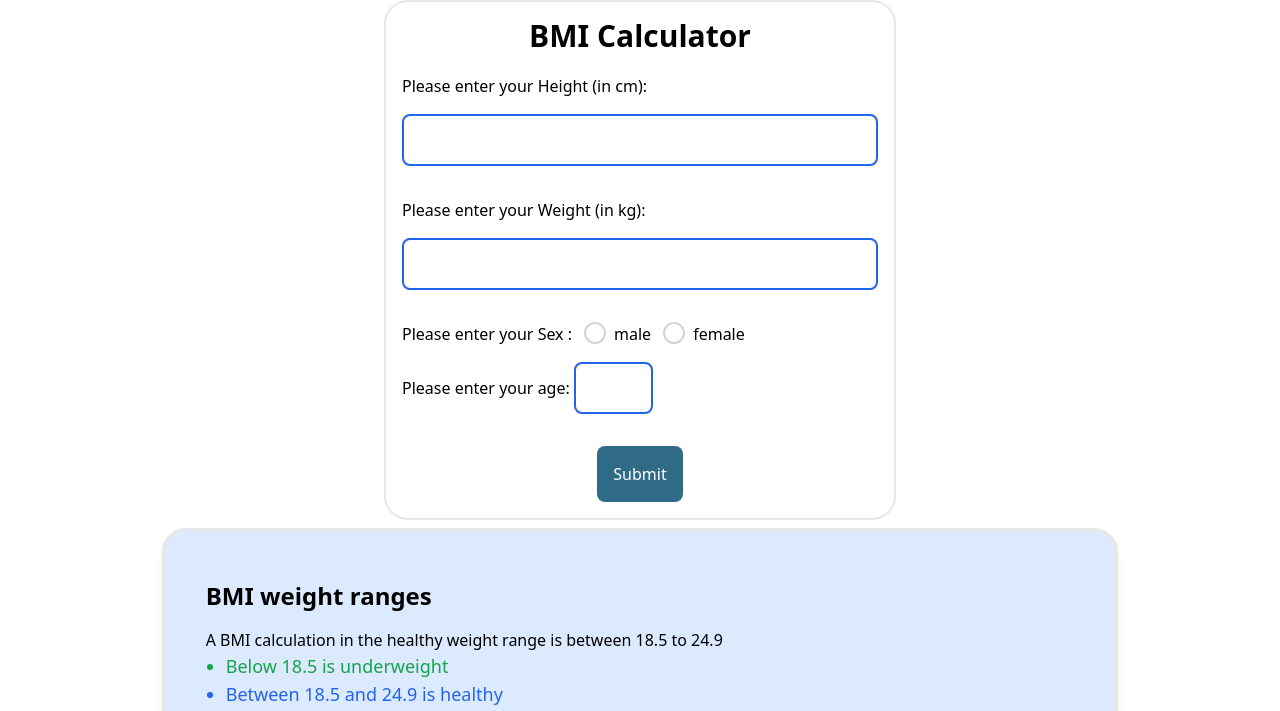
it: BMI Calculator Component › should show an error message when submitting without filling the form
Note: Submit the form without filling the details
Step 1. Click the button "Submit" → click(640, 474), box [597,446,682,502]
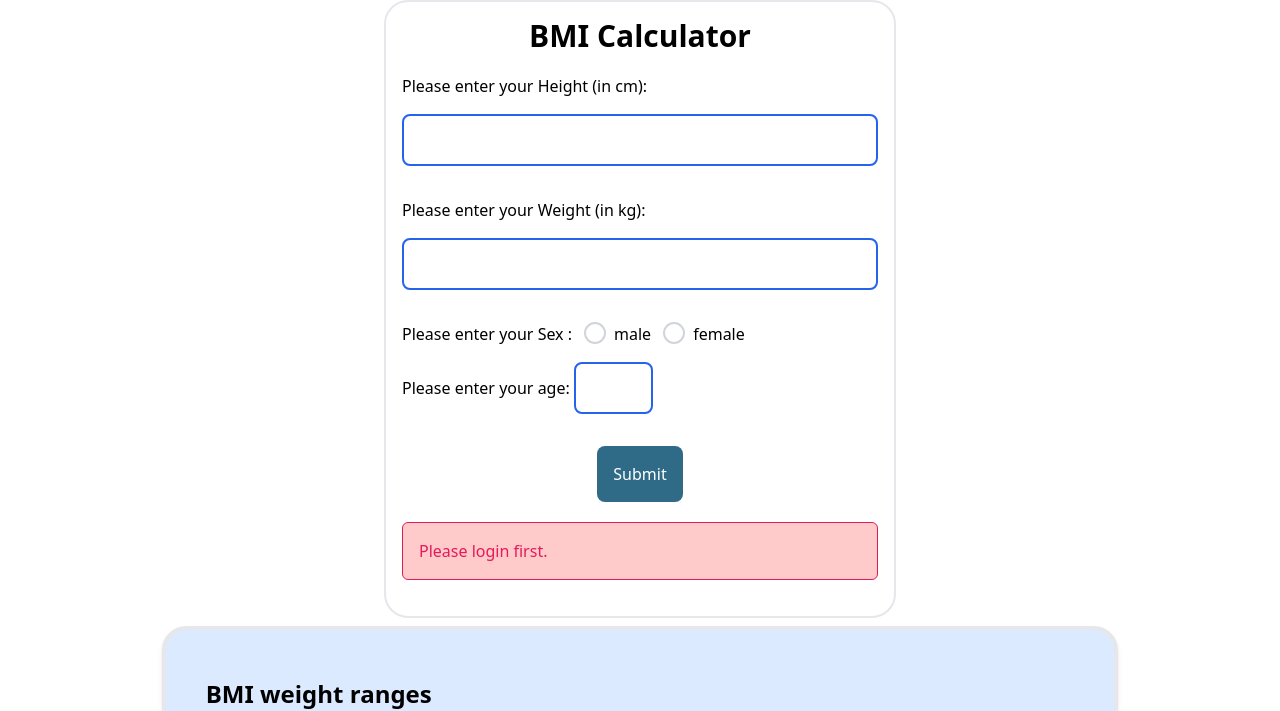
Expected: the text "Please login first." is shown, [402,522,878,580]
